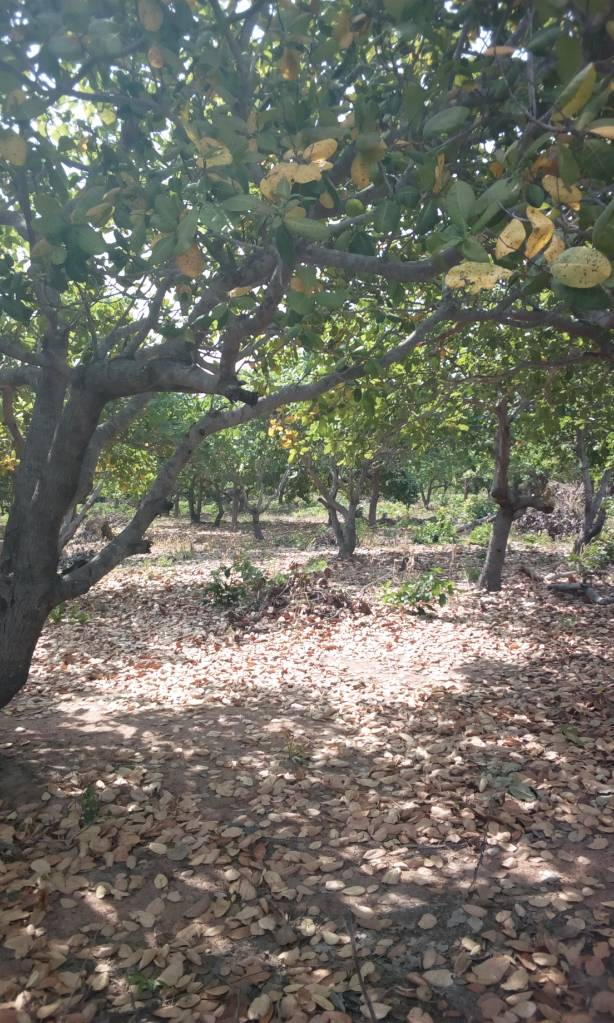Bactériose: (548, 247, 614, 291), (436, 263, 527, 292)
